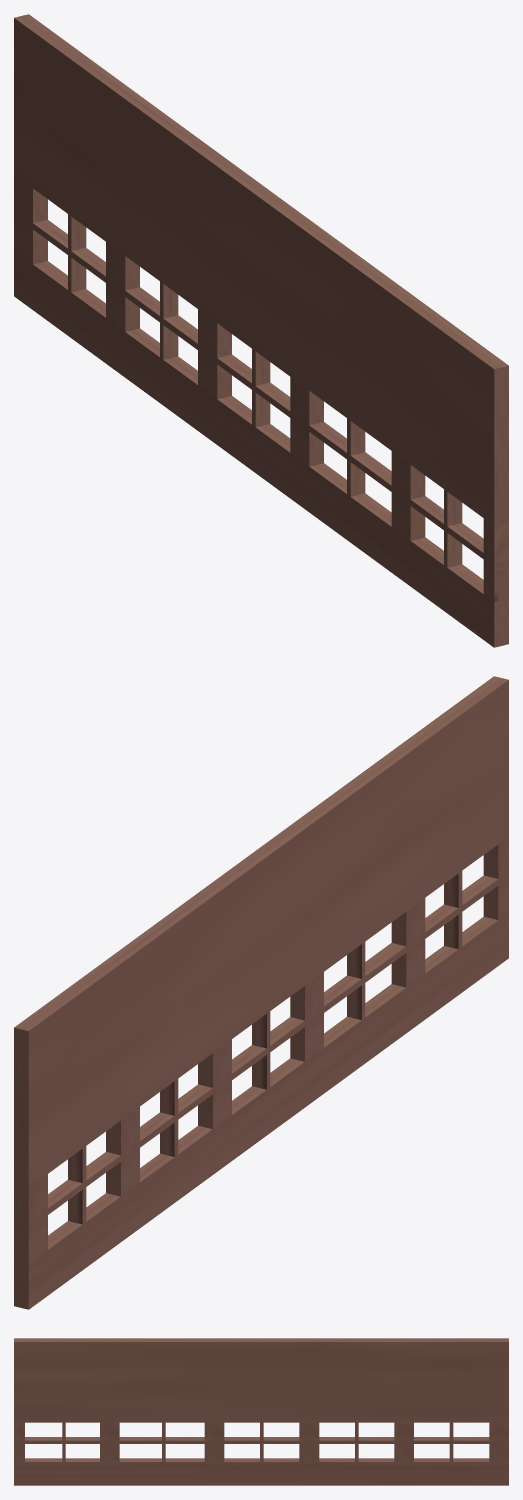
File: SM_Pub_Wall_Front.fbx
3 renders of one model, top to bottom at view 1: azimuth 30°, elevation 25°; view 2: azimuth 150°, elevation 25°; view 3: azimuth 270°, elevation 25°, orthographic. The views are drawn at different scales.
Visible parts, largest first — view 1: SM_Pub_Wall_Front; view 2: SM_Pub_Wall_Front; view 3: SM_Pub_Wall_Front.
Part boxes in pixels (x1=…): SM_Pub_Wall_Front: x1=14, y1=14, x2=508, y2=647; SM_Pub_Wall_Front: x1=14, y1=676, x2=508, y2=1309; SM_Pub_Wall_Front: x1=14, y1=1338, x2=508, y2=1485.
Bounding box in the file's own units: 25.41 × 456 × 1425.
